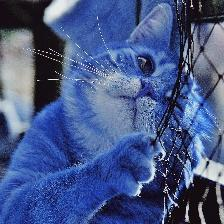kedo: (3, 3, 196, 224)
